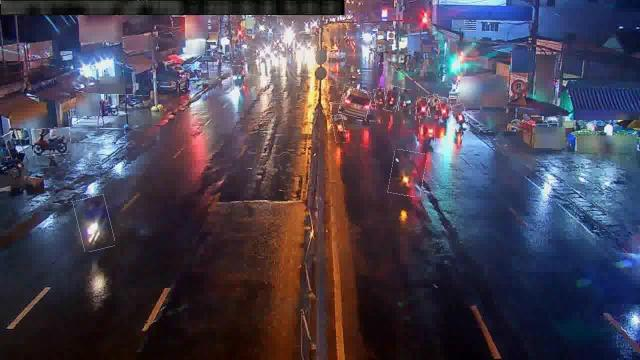Bike: (76, 196, 112, 250), (389, 151, 425, 197), (32, 128, 70, 156), (115, 94, 148, 114), (419, 116, 435, 146), (452, 104, 468, 132), (332, 114, 346, 144), (384, 85, 400, 111), (427, 94, 441, 118), (440, 99, 452, 123), (399, 90, 411, 114), (232, 66, 244, 90), (416, 98, 428, 120), (374, 88, 386, 108)
Car: (340, 87, 370, 117)
